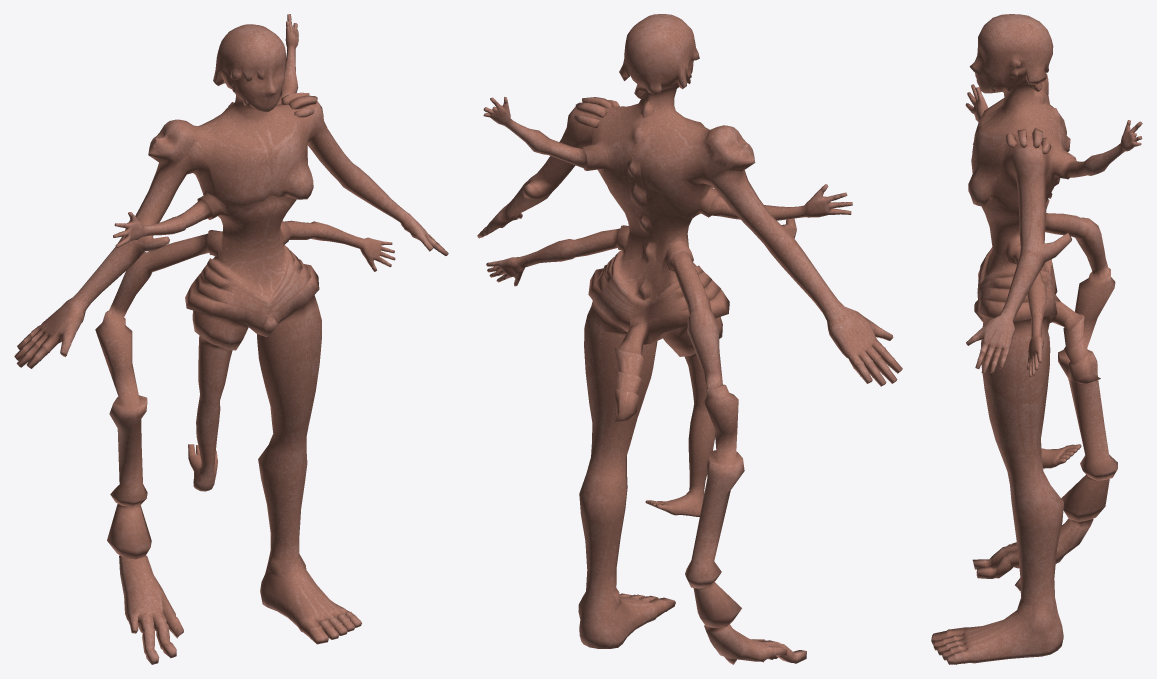
The model's file is COLECCIONISTAFULL.glb.
3 views of the same model, side by side, from view 1: azimuth 30°, elevation 25°; view 2: azimuth 150°, elevation 25°; view 3: azimuth 270°, elevation 25° (orthographic). The views are drawn at different scales.
Parts seen in each view (by area): view 1: Coleccionista.002; view 2: Coleccionista.002; view 3: Coleccionista.002.
Part boxes in pixels (x1=…): Coleccionista.002: x1=14, y1=14, x2=448, y2=664; Coleccionista.002: x1=477, y1=14, x2=902, y2=664; Coleccionista.002: x1=931, y1=14, x2=1142, y2=664.
Size of the model in its own units: 1.85 by 2.55 by 0.8019.
Materials: 1 (1 with a texture image).
